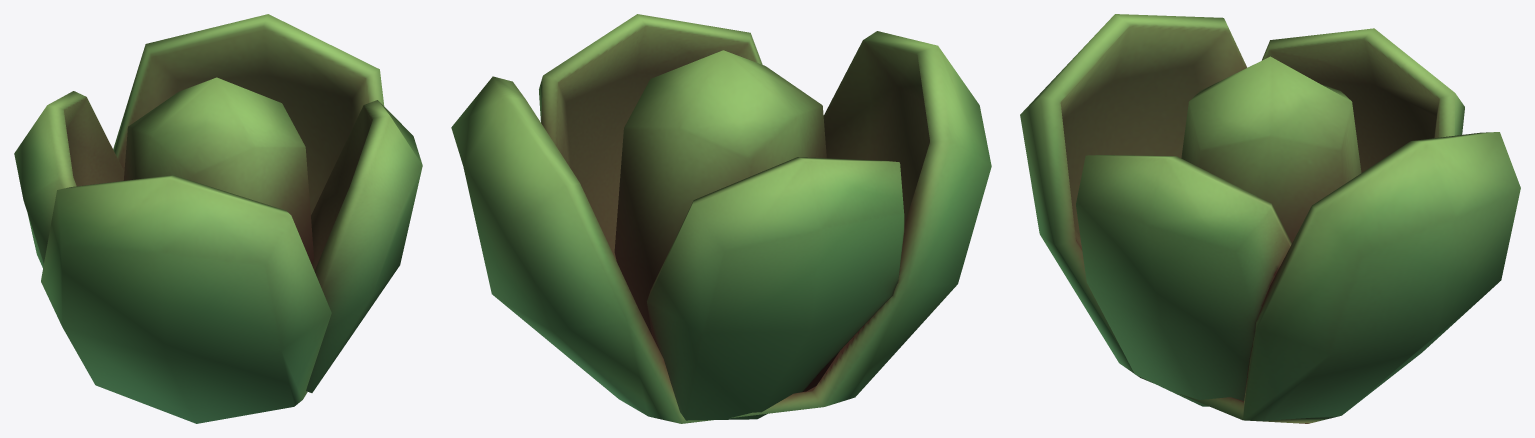
The model's file is SM_Lettuce.fbx.
3 renders of one model, left to right at view 1: azimuth 30°, elevation 25°; view 2: azimuth 150°, elevation 25°; view 3: azimuth 270°, elevation 25°, orthographic. The views are drawn at different scales.
Visible parts, largest first — view 1: Alface.001; view 2: Alface.001; view 3: Alface.001.
Boxes of the visible parts, x1,y1,x2,y2 form: Alface.001: (14,14,422,423); Alface.001: (451,14,991,423); Alface.001: (1020,14,1520,423).
Size of the model in its own units: 58.05 by 45.25 by 58.51.
